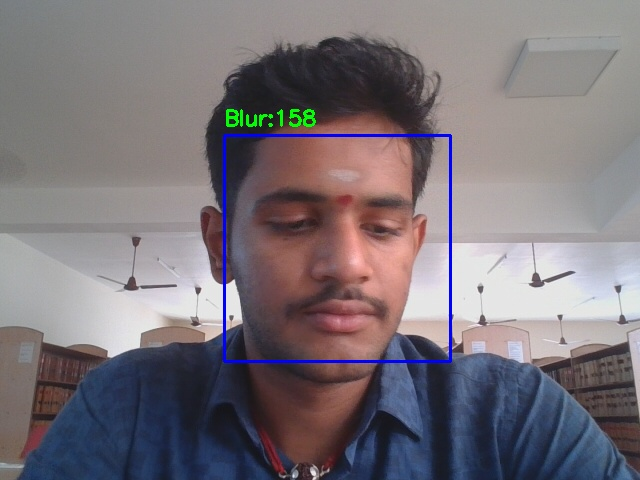real: (224, 135, 450, 361)
